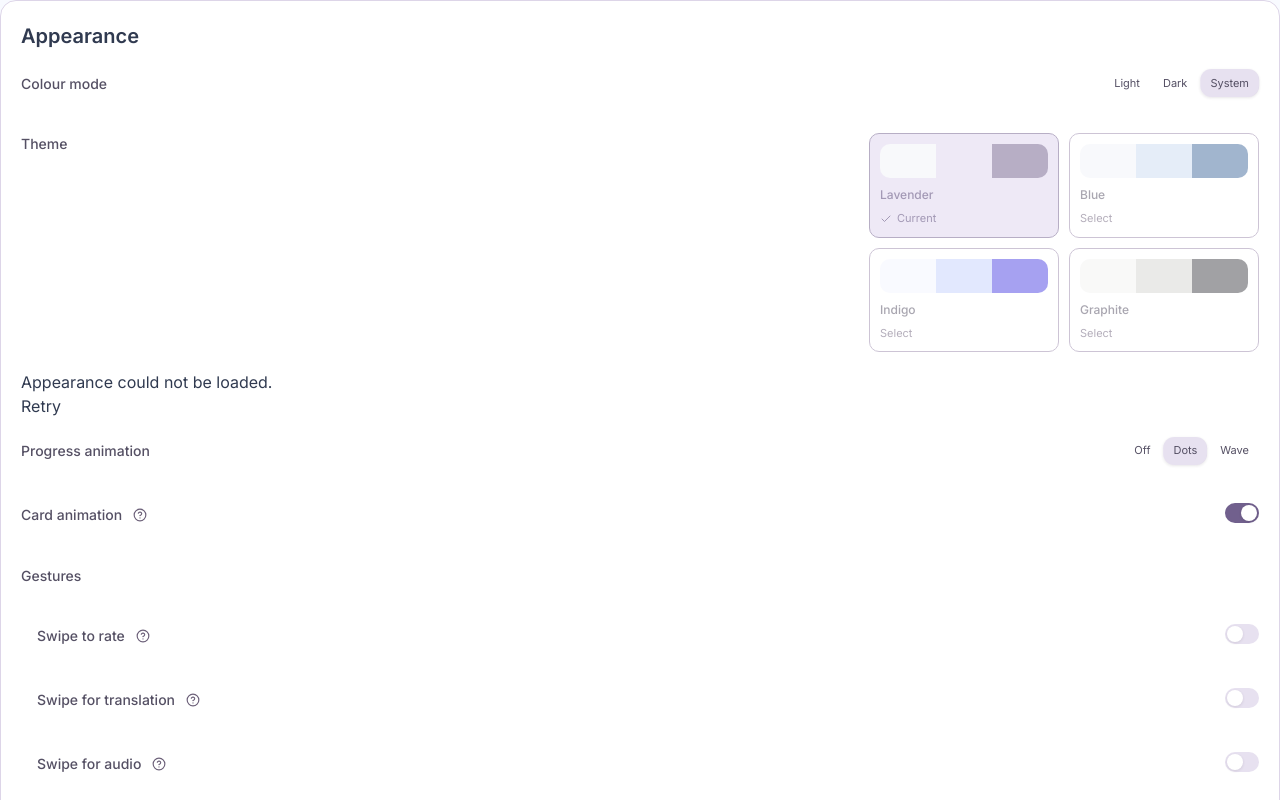
load and save failures allow explicit retry without replacing account ownership
Expected: the text "Appearance could not be loaded." is shown, top-left (21, 372), bottom-right (272, 392)
Click the button "Retry".
click(41, 406)  # box top-left (21, 394), bottom-right (61, 418)
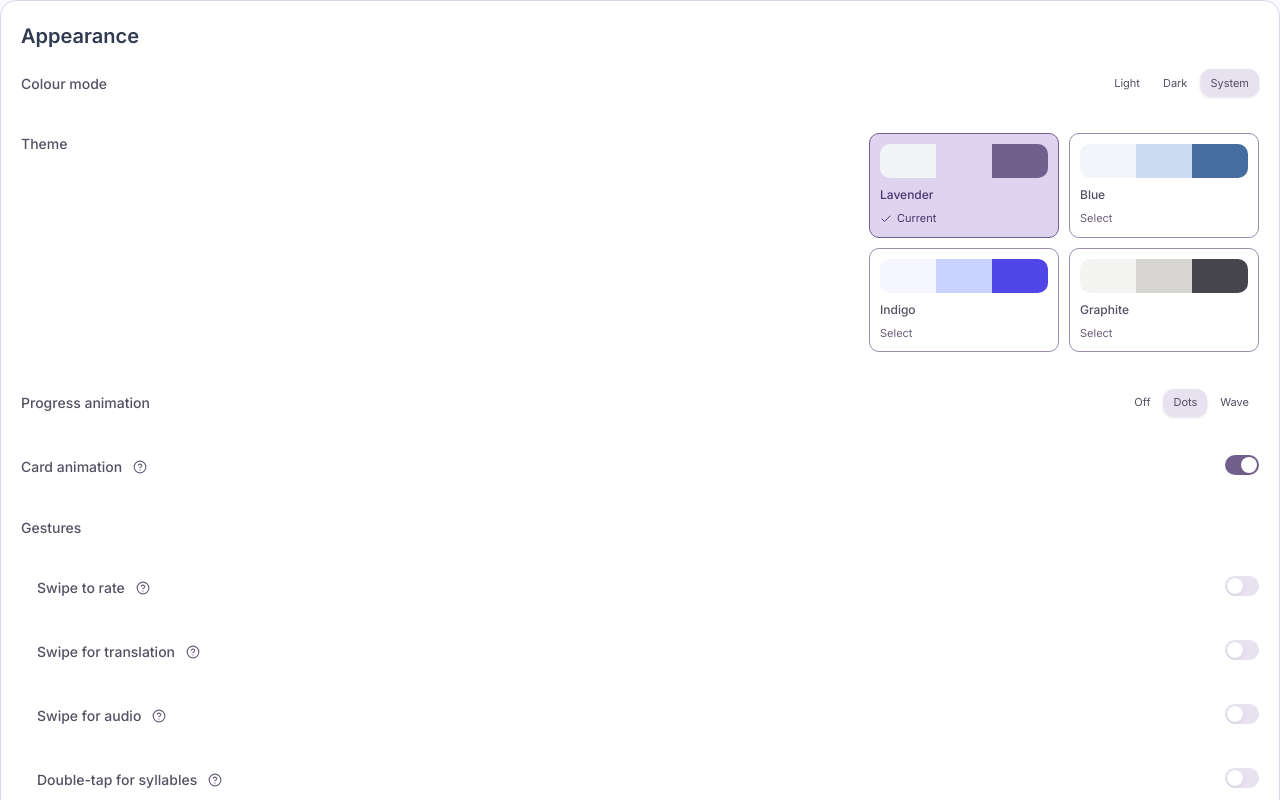
Expected: the button "Blue Select" is enabled
Click the button "Blue Select".
click(1164, 186)  # box top-left (1069, 133), bottom-right (1259, 238)
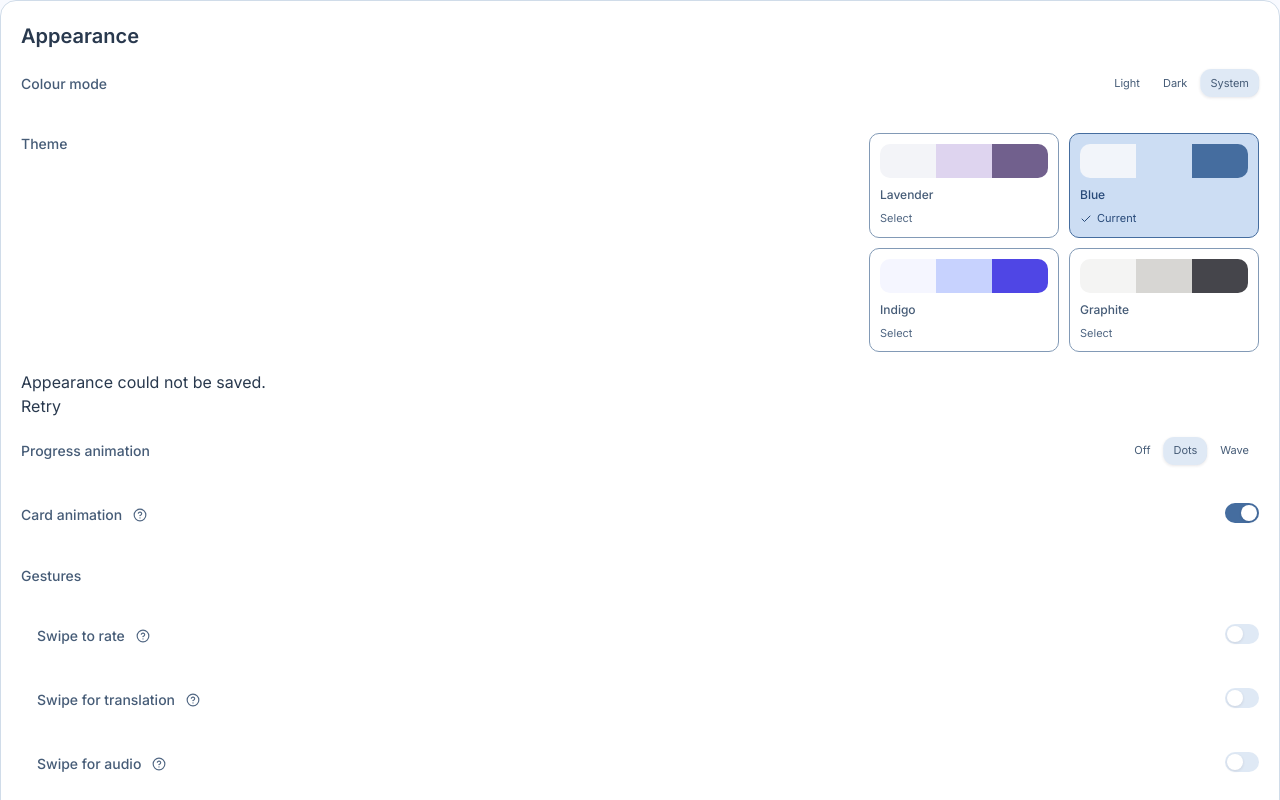
Expected: the text "Appearance could not be saved." is shown, top-left (21, 372), bottom-right (266, 392)
Click the button "Retry".
click(41, 406)  # box top-left (21, 394), bottom-right (61, 418)
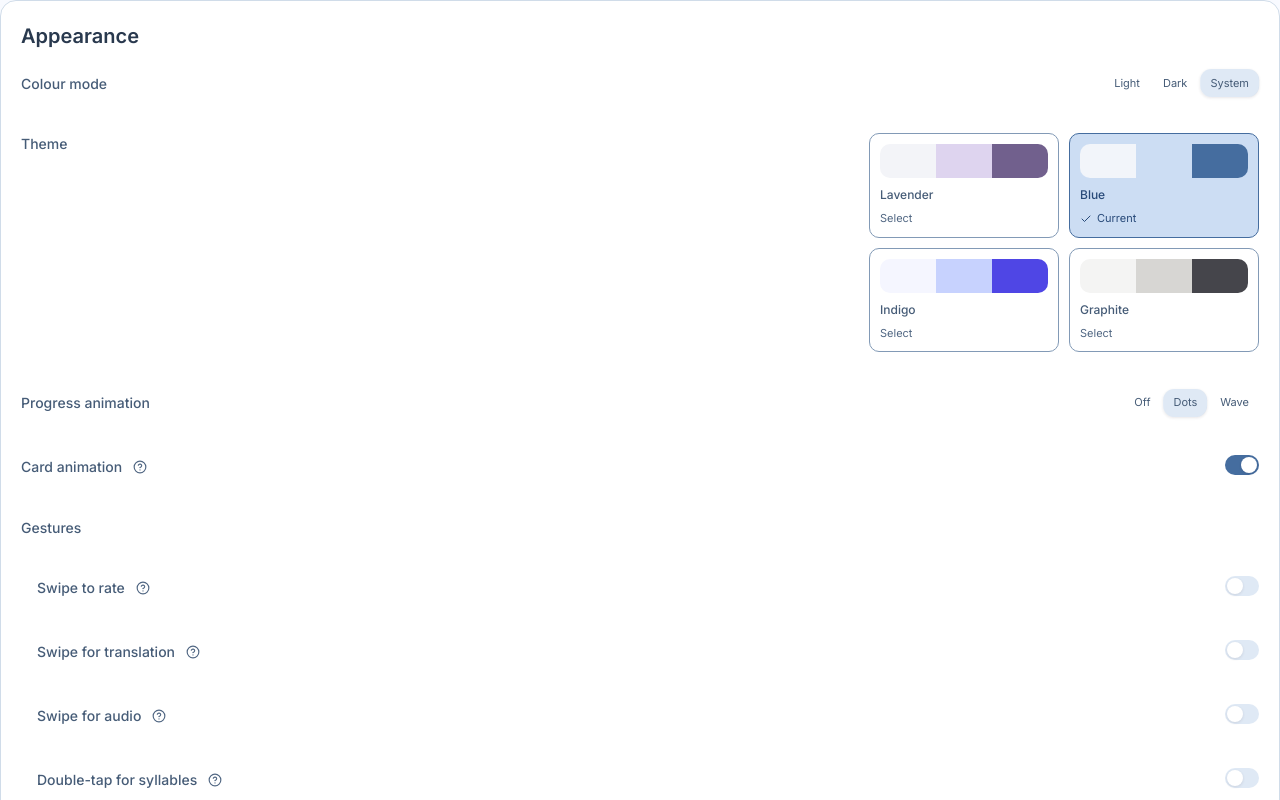
Expected: the text "Appearance could not be saved." is gone
